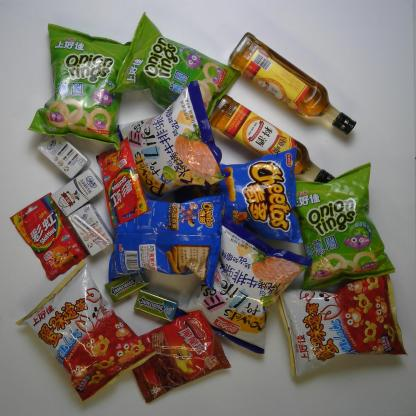Candy: (9, 191, 90, 282), (95, 136, 151, 229)
Dessert: (132, 309, 233, 404)
Gum: (132, 287, 180, 323), (104, 269, 151, 305)
Milk: (50, 167, 105, 218), (67, 202, 115, 258), (36, 134, 92, 181)
Puffed Food: (14, 258, 158, 405), (174, 211, 313, 356), (108, 10, 242, 121), (277, 273, 409, 380), (27, 22, 132, 152), (116, 80, 232, 196), (293, 162, 396, 291), (108, 193, 226, 291), (192, 146, 305, 244)
Seasoner: (227, 31, 358, 137), (208, 93, 336, 184)
